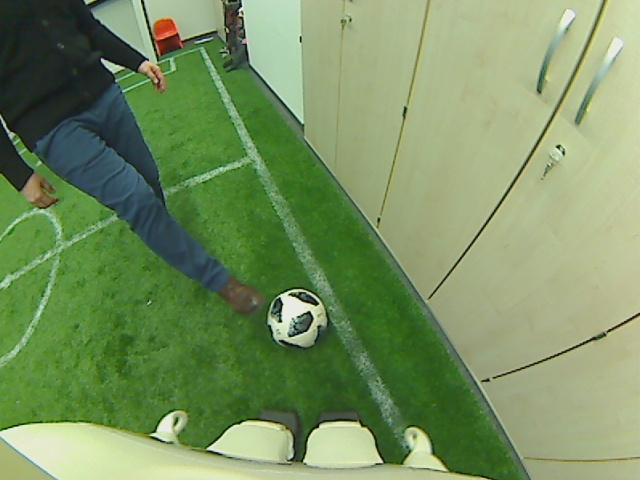ball: (265, 288, 327, 352)
